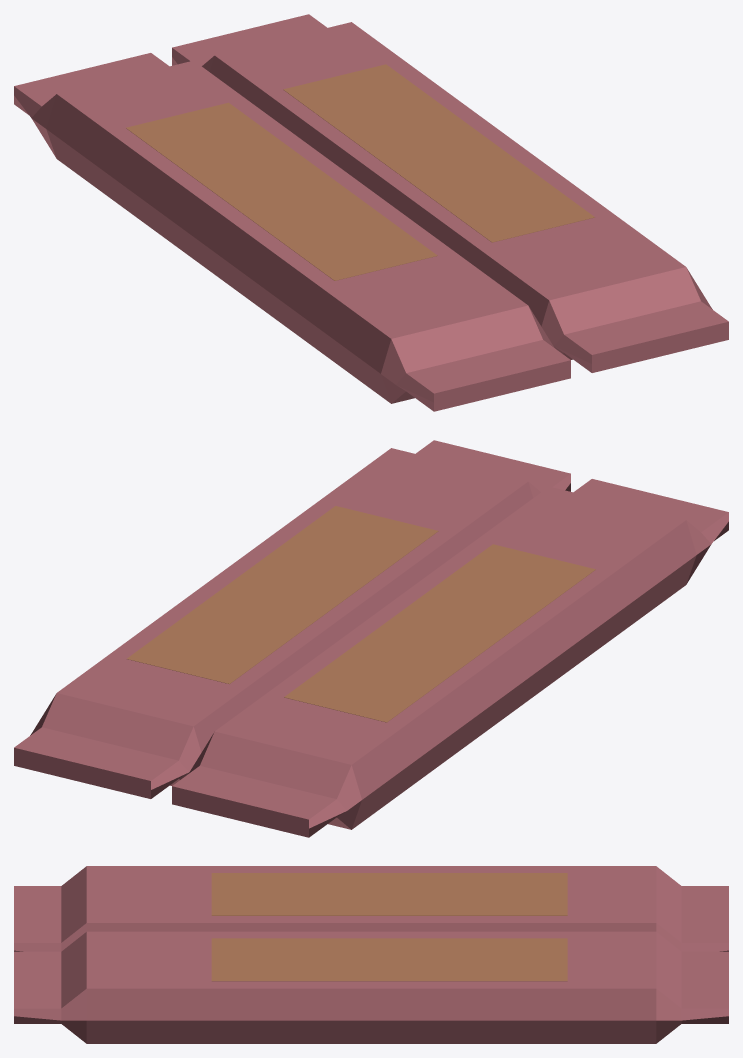
The model's file is choco.fbx.
The picture shows the model from 3 angles, top to bottom: view 1: azimuth 30°, elevation 25°; view 2: azimuth 150°, elevation 25°; view 3: azimuth 270°, elevation 25°; orthographic projection. The views are drawn at different scales.
Visible parts, largest first — view 1: Cube.001; view 2: Cube.001; view 3: Cube.001.
Boxes of the visible parts, box(x1,y1,x2,y2) form: Cube.001: box(14, 14, 728, 411); Cube.001: box(14, 440, 728, 837); Cube.001: box(14, 866, 728, 1043).
Bounding box in the file's own units: 461 × 91.06 × 1062.
